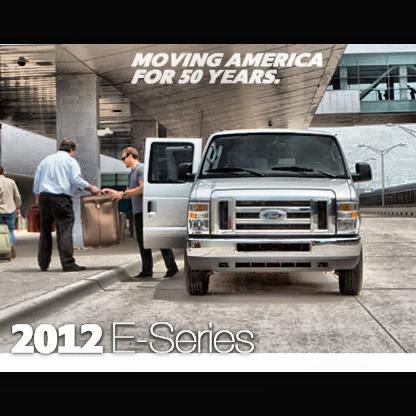Ford E-Series Wagon Van 2012: (136, 125, 376, 301)
